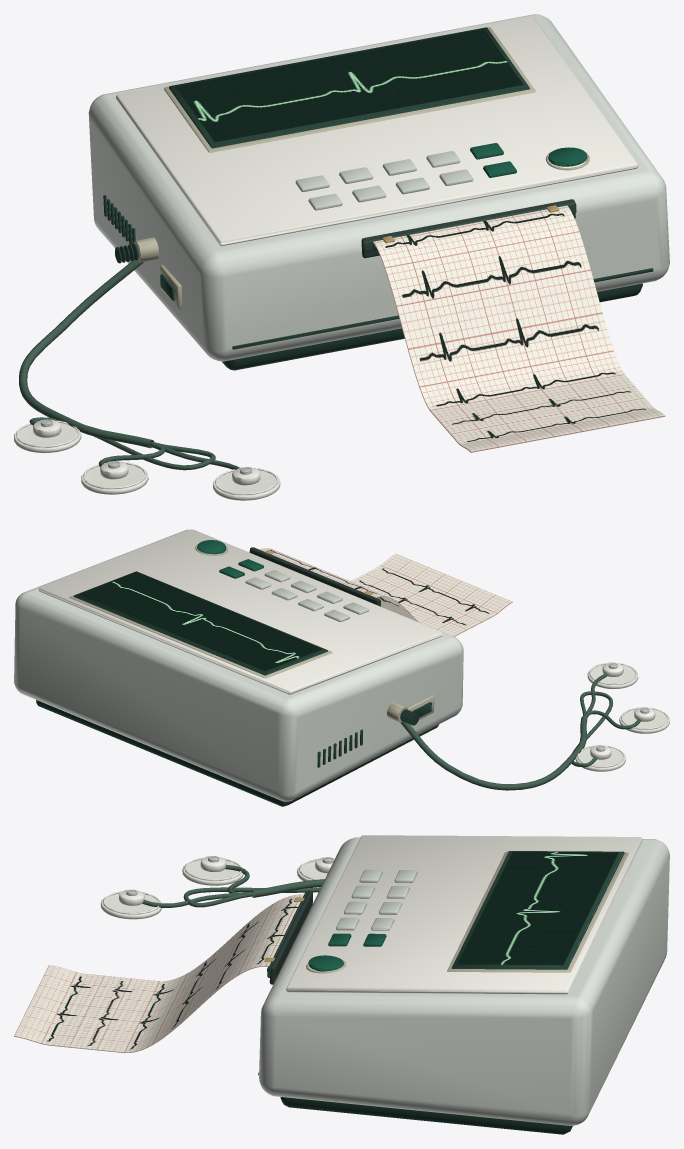
Rendered from service-ecg-v5-lod.glb.
The picture shows the model from 3 angles, top to bottom: view 1: azimuth 30°, elevation 25°; view 2: azimuth 150°, elevation 25°; view 3: azimuth 270°, elevation 25°; orthographic projection. The views are drawn at different scales.
Visible parts, largest first — view 1: ECG_v4_Tapered_Housing.001, ECG_Electrode_0_Snap.001, ECG_Physical_Feeding_Chart.001, ECG_v4_Display_Rolling_Graph.001, ECG_Underside.001, ECG_Main_Lead.001, ECG_Electrode_0_Adhesive_Pad.001, ECG_v4_Action_Key_Bezel.001, ECG_Tactile_Key_0_0.001, ECG_Tactile_Key_0_4.001, ECG_Paper_Slot.001, ECG_Printer_throat.001; view 2: ECG_v4_Tapered_Housing.001, ECG_Electrode_0_Snap.001, ECG_v4_Display_Rolling_Graph.001, ECG_Physical_Feeding_Chart.001, ECG_Underside.001, ECG_Main_Lead.001, ECG_Electrode_0_Adhesive_Pad.001, ECG_Tactile_Key_0_0.001, ECG_v4_Action_Key_Bezel.001, ECG_Paper_Slot.001, ECG_Tactile_Key_0_4.001; view 3: ECG_v4_Tapered_Housing.001, ECG_Electrode_0_Snap.001, ECG_Physical_Feeding_Chart.001, ECG_v4_Display_Rolling_Graph.001, ECG_Underside.001, ECG_Electrode_0_Adhesive_Pad.001, ECG_Tactile_Key_0_0.001, ECG_Main_Lead.001, ECG_v4_Action_Key_Bezel.001, ECG_Tactile_Key_0_4.001, ECG_Paper_Slot.001.
Part boxes in pixels (bbox=[...]): ECG_v4_Tapered_Housing.001: bbox=[88, 14, 669, 361]; ECG_Electrode_0_Snap.001: bbox=[33, 17, 638, 485]; ECG_Physical_Feeding_Chart.001: bbox=[373, 205, 665, 452]; ECG_v4_Display_Rolling_Graph.001: bbox=[175, 29, 523, 142]; ECG_Underside.001: bbox=[103, 27, 653, 370]; ECG_Main_Lead.001: bbox=[19, 259, 239, 470]; ECG_Electrode_0_Adhesive_Pad.001: bbox=[14, 420, 280, 500]; ECG_v4_Action_Key_Bezel.001: bbox=[133, 27, 589, 308]; ECG_Tactile_Key_0_0.001: bbox=[295, 151, 473, 210]; ECG_Tactile_Key_0_4.001: bbox=[470, 143, 587, 177]; ECG_Paper_Slot.001: bbox=[361, 199, 575, 258]; ECG_Printer_throat.001: bbox=[363, 202, 576, 252]; ECG_v4_Tapered_Housing.001: bbox=[14, 529, 463, 801]; ECG_Electrode_0_Snap.001: bbox=[38, 529, 655, 759]; ECG_v4_Display_Rolling_Graph.001: bbox=[79, 572, 322, 671]; ECG_Physical_Feeding_Chart.001: bbox=[259, 548, 512, 636]; ECG_Underside.001: bbox=[36, 571, 438, 806]; ECG_Main_Lead.001: bbox=[400, 673, 640, 790]; ECG_Electrode_0_Adhesive_Pad.001: bbox=[575, 662, 669, 771]; ECG_Tactile_Key_0_0.001: bbox=[245, 570, 369, 621]; ECG_v4_Action_Key_Bezel.001: bbox=[69, 544, 434, 724]; ECG_Paper_Slot.001: bbox=[249, 547, 379, 605]; ECG_Tactile_Key_0_4.001: bbox=[197, 540, 263, 578]; ECG_v4_Tapered_Housing.001: bbox=[259, 837, 669, 1125]; ECG_Electrode_0_Snap.001: bbox=[119, 835, 642, 994]; ECG_Physical_Feeding_Chart.001: bbox=[14, 894, 303, 1052]; ECG_v4_Display_Rolling_Graph.001: bbox=[457, 851, 618, 965]; ECG_Underside.001: bbox=[258, 851, 624, 1134]; ECG_Electrode_0_Adhesive_Pad.001: bbox=[100, 858, 327, 919]; ECG_Tactile_Key_0_0.001: bbox=[336, 869, 417, 930]; ECG_Main_Lead.001: bbox=[142, 864, 324, 907]; ECG_v4_Action_Key_Bezel.001: bbox=[306, 851, 628, 973]; ECG_Tactile_Key_0_4.001: bbox=[308, 933, 386, 971]; ECG_Paper_Slot.001: bbox=[269, 890, 312, 984].
Size of what is drawn, in the model's own units: 4.38 by 1.12 by 4.05.
14 materials, 2 textured.
